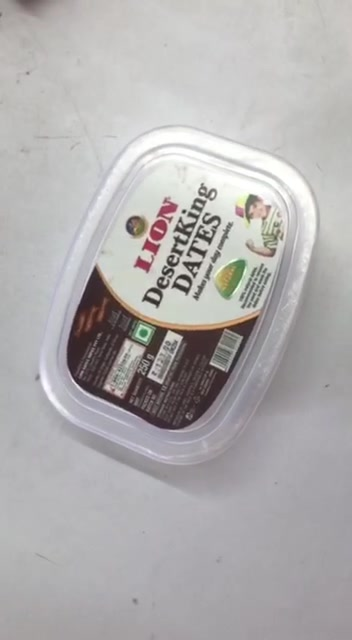Lion dates: (37, 127, 321, 466)
